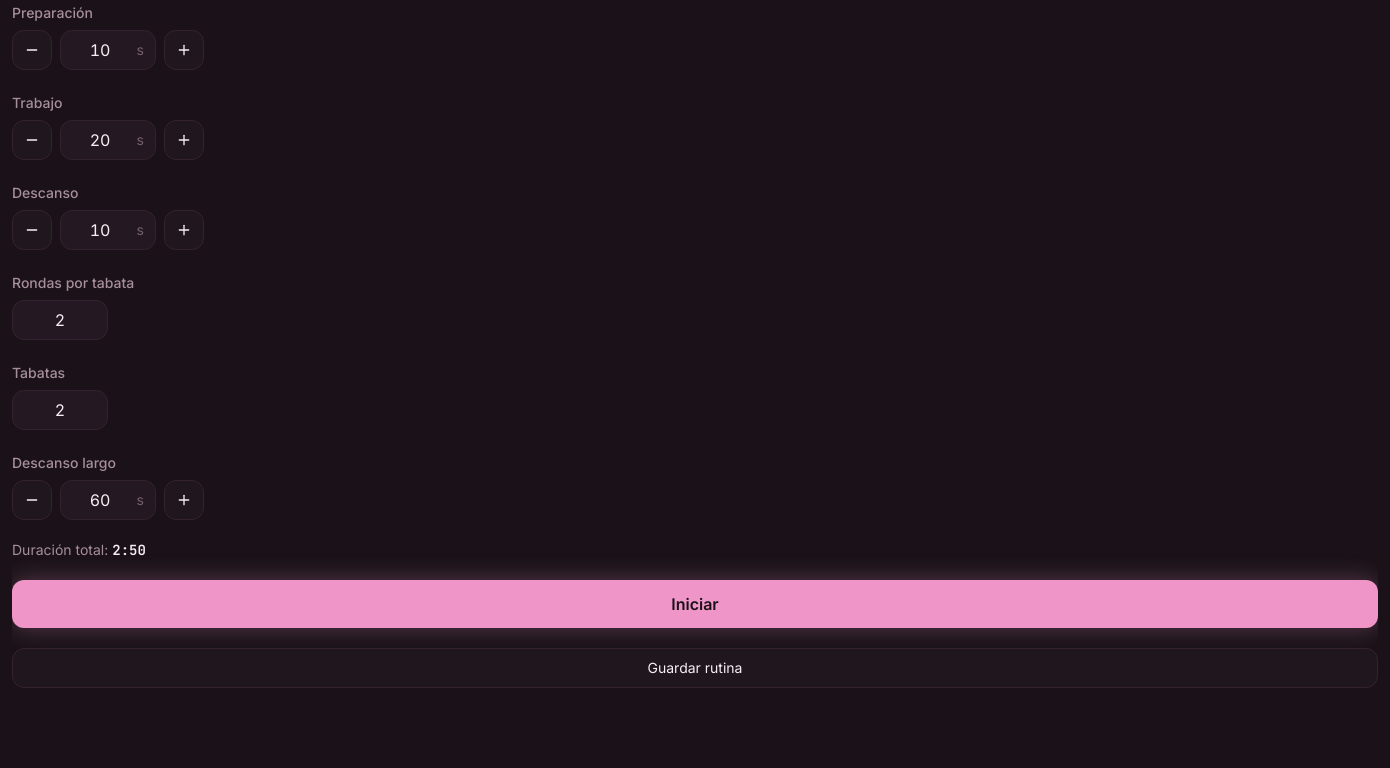
Scenario: TabataConfigScreen — los seis campos validan igual que Clásico (spec timer-modes) › Rondas por tabata = 0 muestra el mensaje español y no inicia
Replace the text in the field labelled "Rondas por tabata" with "0" at (60, 320), box [12,300,108,340]
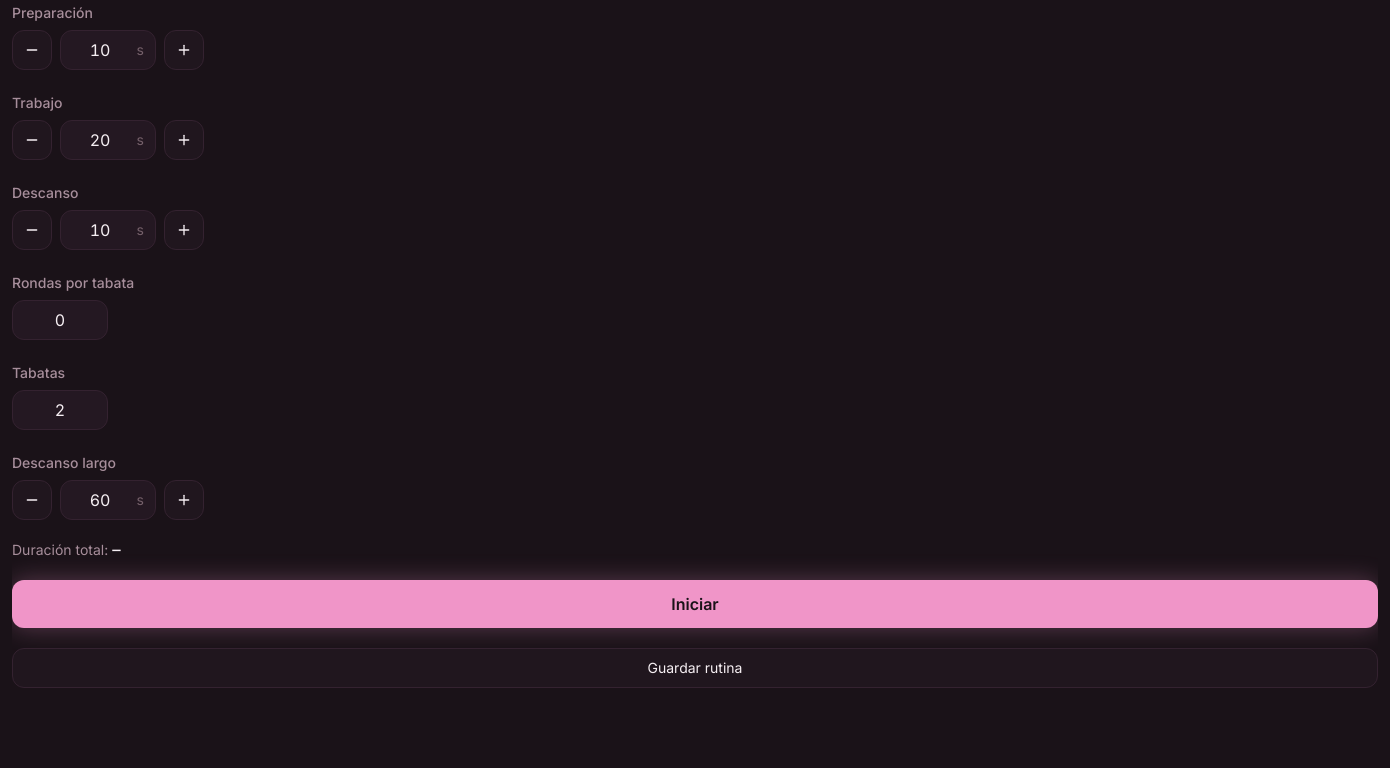
Click the button "Iniciar" at (695, 604), box [12,580,1378,628]
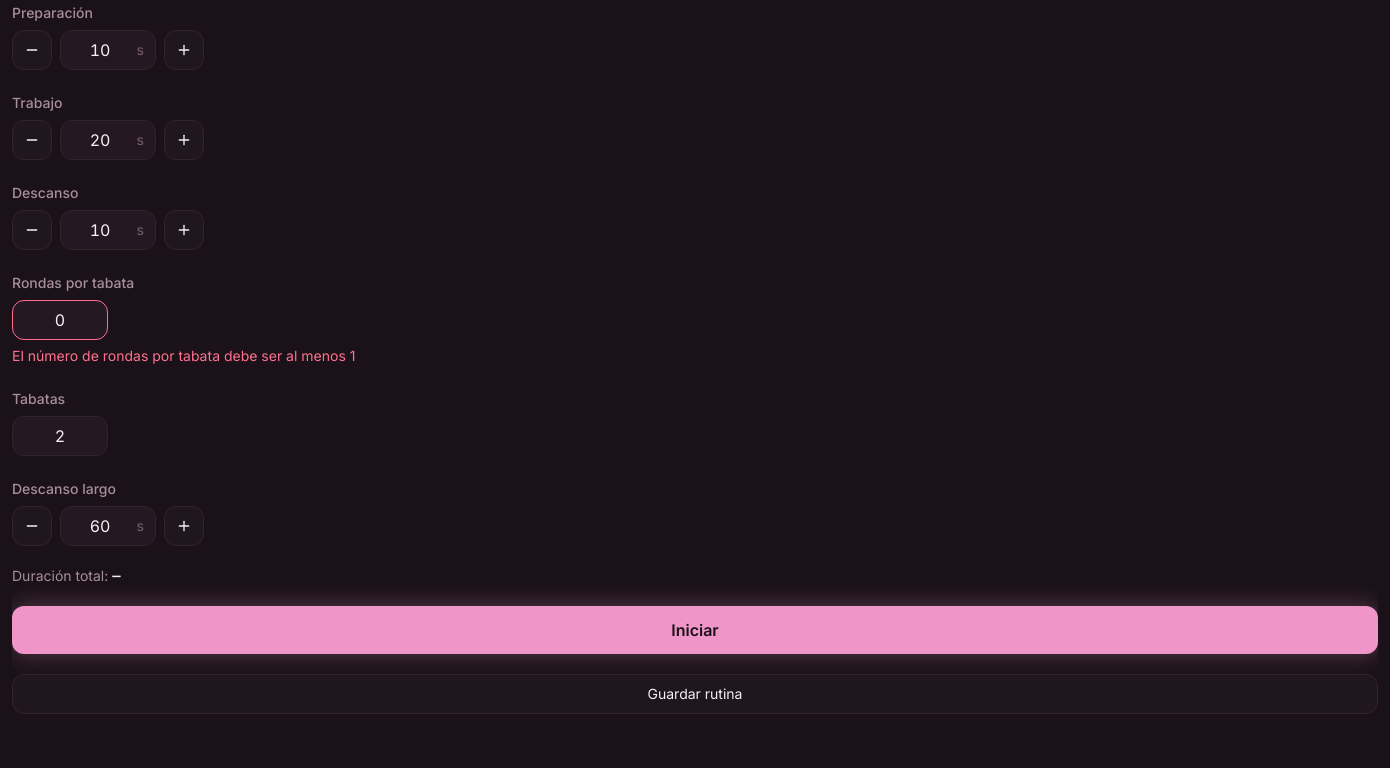
Check: the text "El número de rondas por tabata debe ser al menos 1" is shown, box [12,347,355,364]
